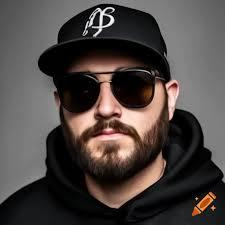cap: (35, 2, 181, 72)
sunglasses: (50, 65, 168, 114)
